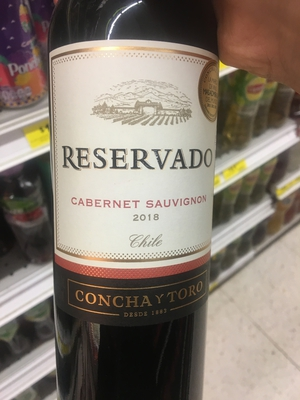reservado cabernet sauvignon: (43, 5, 223, 400)
